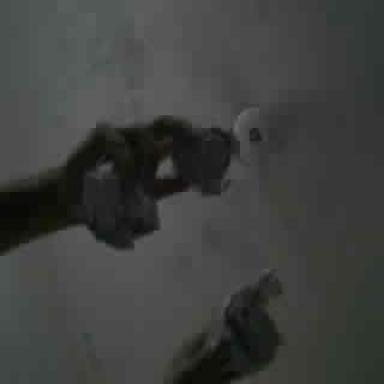paper: (204, 270, 283, 376), (80, 165, 158, 243), (172, 128, 240, 194)
